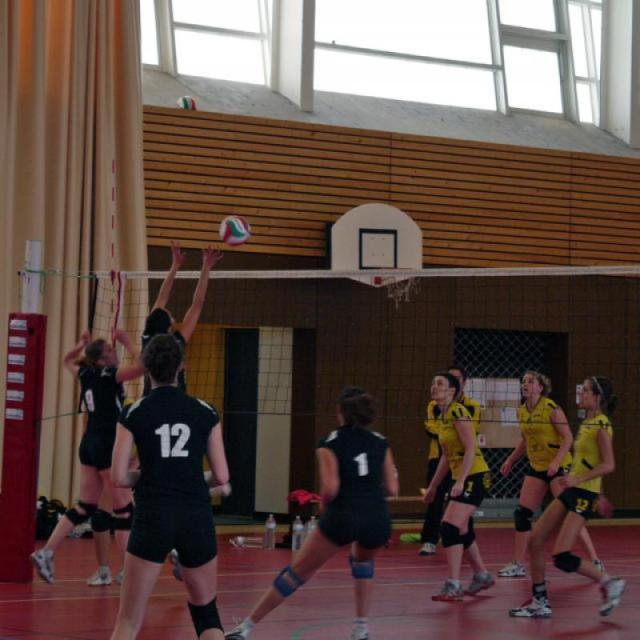volleyball: (218, 217, 254, 247)
